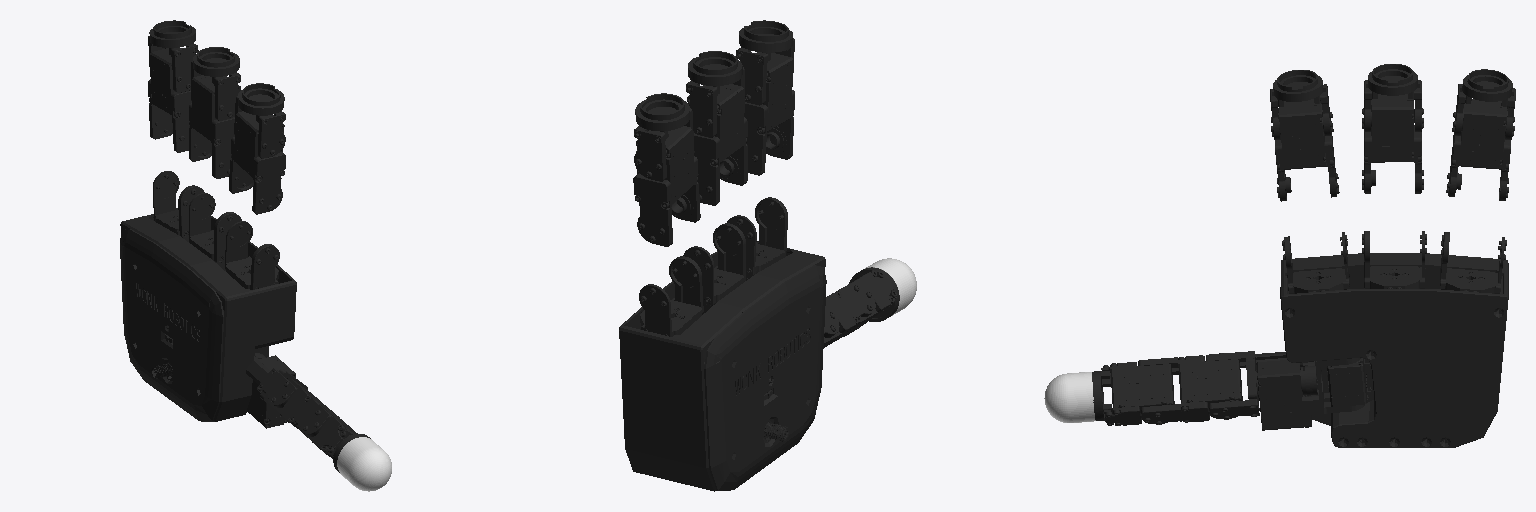
The robot description file, URDF, robot "allegro_hand_left":
<?xml version="1.0" ?>
<!-- =================================================================================== -->
<!-- |    This document was autogenerated by xacro from allegro_hand_description_right.xacro | -->
<!-- |    EDITING THIS FILE BY HAND IS NOT RECOMMENDED                                 | -->
<!-- =================================================================================== -->
<robot name="allegro_hand_left" xmlns:xacro="http://www.ros.org/wiki/xacro">
  <!-- ======================== BASE PARAMS ========================= -->
  <!-- ======================== FINGER PARAMS ======================== -->
  <!-- full height from joint to tip. when used,
    the radius of the finger tip sphere will be subtracted
    and one fixed link will be added for the tip. -->
  <!-- ========================= THUMB PARAMS ========================= -->
  <!-- ========================= LIMITS ========================= -->
  <!-- ============================================================================= -->
  <!-- PALM -->
 <link name="world"/>
  <joint name="global" type="fixed">
        <parent link="world"/>
        <child link="palm_link"/>
        <origin xyz="0 0 0.0" rpy="0 0 0"/>
  </joint>
  <link name="palm_link">
    <visual>
      <geometry>
        <mesh filename="package://allegro_hand_controllers/meshes/left_hand_G.stl" scale="0.001 0.001 0.001"/>
      </geometry>
      <origin rpy="0 0 1.57" xyz="0.02 0.0 -0.1"/>
      <material name="black">
        <color rgba="0.2 0.2 0.2 1"/>
      </material>
    </visual>
    <collision>
      <geometry>
        <mesh filename="package://allegro_hand_controllers/meshes/left_hand_G.stl" scale="0.001 0.001 0.001"/>
      </geometry>
 <origin rpy="0 0 1.57" xyz="0.02 0.0 -0.1"/>
    </collision>
    <inertial>
      <origin rpy="0 0 0" xyz="0 0 0.0475"/>
      <mass value="0.4154"/>
      <inertia ixx="1e-4" ixy="0.0" ixz="0.0" iyy="1e-4" iyz="0.0" izz="1e-4"/>
    </inertial>
  </link>
  <!-- ============================================================================= -->
  <!-- FINGERS -->
  <!-- RIGHT HAND due to which finger is number 0 -->
  <!-- for LEFT HAND switch the sign of the **offset_origin_y** and **finger_angle_r** parameters-->
  <!-- [LINK 0, 4, 8] -->
  <link name="link_0_0">
        <visual>
      <geometry>
        <mesh filename="package://allegro_hand_controllers/meshes/new_l1.stl" scale="0.001 0.001 0.001"/>
      </geometry>
      <origin rpy="0 0 -1.57" xyz="-0.0625 -0.022 0.168"/>
      <material name="black">
        <color rgba="0.2 0.2 0.2 1"/>
      </material>
    </visual>
    <collision>
      <geometry>
        <mesh filename="package://allegro_hand_controllers/meshes/new_l1.stl" scale="0.001 0.001 0.001"/>
      </geometry>
      <origin rpy="0 0 -1.57" xyz="-0.0625 -0.022 0.168"/>
    </collision>
    <inertial>
      <mass value="0.0176"/>
      <origin rpy="0 0 0" xyz="0 0 0"/>
      <inertia ixx="1.2854008e-05" ixy="2.04e-08" ixz="1.89e-06" iyy="1.225e-05" iyz="1.51e-07" izz="2.999e-06"/>
    </inertial>
  </link>
  <joint name="joint_0_0" type="revolute">
    <axis xyz="0 0 1"/>
    <limit effort="15" lower="-0.26" upper="0.29" velocity="7"/>
    <parent link="palm_link"/>
    <child link="link_0_0"/>
    <origin rpy="0.08726646255 0 0" xyz="0.0005 -0.0425 -0.005"/>
    <dynamics damping="3" friction="10"/>
  </joint>
  <!-- [LINK 1, 5, 9] -->
  <link name="link_1_0">
    <visual>
      <geometry>
        <mesh filename="package://allegro_hand_controllers/meshes/new_l2.stl" scale="0.001 0.001 0.001"/>
      </geometry>
      <origin rpy="0 0 -1.57" xyz="-0.0625 -0.022 0.1495"/>
      <material name="black"/>
    </visual>
    <collision>
      <geometry>
        <mesh filename="package://allegro_hand_controllers/meshes/new_l2.stl" scale="0.001 0.001 0.001"/>
      </geometry>
      <origin rpy="0 0 -1.57" xyz="-0.0625 -0.022 0.1495"/>
    </collision>
    <inertial>
      <mass value="0.086"/>
      <origin rpy="0 0 0" xyz="0 0 0"/>
      <inertia ixx="1.86e-05" ixy="1.68e-06" ixz="-6.16e-06" iyy="4.87e-05" iyz="3.51e-07" izz="5.57e-05"/>
    </inertial>
  </link>
  <joint name="joint_1_0" type="revolute">
    <limit effort="15" lower="-0.21" upper="1.79" velocity="7"/>
    <axis xyz="0 1 0"/>
    <parent link="link_0_0"/>
    <child link="link_1_0"/>
    <origin xyz="0 0 0.017"/>
    <dynamics damping="3" friction="5"/>
  </joint>
  <!-- [LINK 2, 6, 10]-->
  <link name="link_2_0">
    <visual>
      <geometry>
        <mesh filename="package://allegro_hand_controllers/meshes/new_l3.stl" scale="0.001 0.001 0.001"/>
      </geometry>
      <origin rpy="0 0 -1.57" xyz="-0.0625 -0.022 0.1065"/>
      <material name="black"/>
    </visual>
    <collision>
      <geometry>
        <mesh filename="package://allegro_hand_controllers/meshes/new_l3.stl" scale="0.001 0.001 0.001"/>
      </geometry>
      <origin rpy="0 0 -1.57" xyz="-0.0625 -0.022 0.1065"/>
    </collision>
    <inertial>
      <mass value="0.0367"/>
      <origin rpy="0 0 0" xyz="0 0 0"/>
      <inertia ixx="3.81e-06" ixy="5.72e-09" ixz="-9.97e-07" iyy="1.455e-05" iyz="2.63e-08" izz="1.29e-05"/>
    </inertial>
  </link>
  <joint name="joint_2_0" type="revolute">
    <axis xyz="0 1 0"/>
    <limit effort="15" lower="-0.12" upper="1.86" velocity="7"/>
    <parent link="link_1_0"/>
    <child link="link_2_0"/>
    <origin xyz="0 0 0.0431"/>
    <dynamics damping="8" friction="10"/>
  </joint>
  <!-- [LINK 3, 7, 11] -->
  <link name="link_3_0">
    <visual>
      <geometry>
        <mesh filename="package://allegro_hand_controllers/meshes/new_l4.stl" scale="0.001 0.001 0.001"/>
      </geometry>
      <origin rpy="0 0 -1.57" xyz="-0.0625 -0.022 0.0685"/>
      <material name="black"/>
    </visual>
    <collision>
      <geometry>
        <mesh filename="package://allegro_hand_controllers/meshes/new_l4.stl" scale="0.001 0.001 0.001"/>
      </geometry>
      <origin rpy="0 0 -1.57" xyz="-0.0625 -0.022 0.0685"/>
    </collision>
    <inertial>
      <mass value="0.004"/>
      <origin rpy="0 0 0" xyz="0 0 0"/>
      <inertia ixx="1.17e-06" ixy="5.09e-09" ixz="0.0" iyy="2.4e-06" iyz="0.0" izz="1.67e-06"/>
    </inertial>
  </link>
  <joint name="joint_3_0" type="revolute">
    <axis xyz="0 1 0"/>
    <limit effort="15" lower="-0.21" upper="1.85" velocity="7"/>
    <parent link="link_2_0"/>
    <child link="link_3_0"/>
    <origin xyz="0 0 0.038"/>
    <dynamics damping="10" friction="12"/>
  </joint>
  <!-- [FINGER TIP] -->
  <link name="link_3_0_tip">
    <visual>
      <geometry>
        <mesh filename="package://allegro_hand_controllers/meshes/finger_tip.stl" scale="0.001 0.001 0.001"/>
      </geometry>
       <origin rpy="0 0 -1.57" xyz="-0.05482 -0.01493 -0.01795"/>
      <material name="white">
        <color rgba=".9 .9 .9 1"/>
      </material>
    </visual>
    <collision>
      <geometry>
        <mesh filename="package://allegro_hand_controllers/meshes/finger_tip.stl" scale="0.001 0.001 0.001"/>
      </geometry>
       <origin rpy="0 0 -1.57" xyz="-0.05482 -0.01493 -0.01795"/>
    </collision>
    <inertial>
      <mass value="0.0017"/>
      <origin rpy="0 0 0" xyz="0 0 0"/>
      <inertia ixx="9.68e-07" ixy="0" ixz="0" iyy="9.68e-07" iyz="0" izz="9.68e-07"/>
    </inertial>
  </link>
  <joint name="joint_3_0_tip" type="fixed">
    <parent link="link_3_0"/>
    <child link="link_3_0_tip"/>
    <origin rpy="0 0 0" xyz="0 0 0.04"/>
  </joint>
  <!-- [LINK 0, 4, 8] -->
  <link name="link_4_0">
     <visual>
      <geometry>
        <mesh filename="package://allegro_hand_controllers/meshes/new_l1.stl" scale="0.001 0.001 0.001"/>
      </geometry>
      <origin rpy="0 0 -1.57" xyz="-0.0625 -0.022 0.167"/>
      <material name="black">
        <color rgba="0.2 0.2 0.2 1"/>
      </material>
    </visual>
    <collision>
      <geometry>
        <mesh filename="package://allegro_hand_controllers/meshes/new_l1.stl" scale="0.001 0.001 0.001"/>
      </geometry>
      <origin rpy="0 0 -1.57" xyz="-0.0625 -0.022 0.167"/>
    </collision>
    <inertial>
      <mass value="0.0176"/>
      <origin rpy="0 0 0" xyz="0 0 0"/>
      <inertia ixx="1.2854008e-05" ixy="2.04e-08" ixz="1.89e-06" iyy="1.225e-05" iyz="1.51e-07" izz="2.999e-06"/>
    </inertial>
  </link>
  <joint name="joint_4_0" type="revolute">
    <axis xyz="0 0 1"/>
    <limit effort="15" lower="-0.26" upper="0.26" velocity="7"/>
    <parent link="palm_link"/>
    <child link="link_4_0"/>
    <origin rpy="0.0 0 0" xyz="0 0 -0.002"/>
    <dynamics damping="3" friction="10"/>
  </joint>
  <!-- [LINK 1, 5, 9] -->
  <link name="link_5_0">
    <visual>
      <geometry>
        <mesh filename="package://allegro_hand_controllers/meshes/new_l2.stl" scale="0.001 0.001 0.001"/>
      </geometry>
      <origin rpy="0 0 -1.57" xyz="-0.0625 -0.022 0.1495"/>
      <material name="black"/>
    </visual>
    <collision>
      <geometry>
        <mesh filename="package://allegro_hand_controllers/meshes/new_l2.stl" scale="0.001 0.001 0.001"/>
      </geometry>
      <origin rpy="0 0 -1.57" xyz="-0.0625 -0.022 0.1495"/>
    </collision>
    <inertial>
      <mass value="0.086"/>
      <origin rpy="0 0 0" xyz="0 0 0"/>
      <inertia ixx="1.86e-05" ixy="1.68e-06" ixz="-6.16e-06" iyy="4.87e-05" iyz="3.51e-07" izz="5.57e-05"/>
    </inertial>
  </link>
  <joint name="joint_5_0" type="revolute">
    <limit effort="15" lower="-0.21" upper="1.79" velocity="7"/>
    <axis xyz="0 1 0"/>
    <parent link="link_4_0"/>
    <child link="link_5_0"/>
    <origin xyz="0 0 0.017"/>
    <dynamics damping="3" friction="5"/>
  </joint>
  <!-- [LINK 2, 6, 10]-->
  <link name="link_6_0">
   <visual>
      <geometry>
        <mesh filename="package://allegro_hand_controllers/meshes/new_l3.stl" scale="0.001 0.001 0.001"/>
      </geometry>
      <origin rpy="0 0 -1.57" xyz="-0.0625 -0.022 0.1065"/>
      <material name="black"/>
    </visual>
    <collision>
      <geometry>
        <mesh filename="package://allegro_hand_controllers/meshes/new_l3.stl" scale="0.001 0.001 0.001"/>
      </geometry>
      <origin rpy="0 0 -1.57" xyz="-0.0625 -0.022 0.1065"/>
    </collision>
    <inertial>
      <mass value="0.0367"/>
      <origin rpy="0 0 0" xyz="0 0 0"/>
      <inertia ixx="3.81e-06" ixy="5.72e-09" ixz="-9.97e-07" iyy="1.455e-05" iyz="2.63e-08" izz="1.29e-05"/>
    </inertial>
  </link>
  <joint name="joint_6_0" type="revolute">
    <axis xyz="0 1 0"/>
    <limit effort="15" lower="-0.12" upper="1.86" velocity="7"/>
    <parent link="link_5_0"/>
    <child link="link_6_0"/>
    <origin xyz="0 0 0.0431"/>
    <dynamics damping="8" friction="10"/>
  </joint>
  <!-- [LINK 3, 7, 11] -->
  <link name="link_7_0">
    <visual>
      <geometry>
        <mesh filename="package://allegro_hand_controllers/meshes/new_l4.stl" scale="0.001 0.001 0.001"/>
      </geometry>
      <origin rpy="0 0 -1.57" xyz="-0.0625 -0.022 0.0685"/>
      <material name="black"/>
    </visual>
    <collision>
      <geometry>
        <mesh filename="package://allegro_hand_controllers/meshes/new_l4.stl" scale="0.001 0.001 0.001"/>
      </geometry>
      <origin rpy="0 0 -1.57" xyz="-0.0625 -0.022 0.0685"/>
    </collision>
    <inertial>
      <mass value="0.004"/>
      <origin rpy="0 0 0" xyz="0 0 0"/>
      <inertia ixx="1.17e-06" ixy="5.09e-09" ixz="0.0" iyy="2.4e-06" iyz="0.0" izz="1.67e-06"/>
    </inertial>
  </link>
  <joint name="joint_7_0" type="revolute">
    <axis xyz="0 1 0"/>
    <limit effort="15" lower="-0.21" upper="1.85" velocity="7"/>
    <parent link="link_6_0"/>
    <child link="link_7_0"/>
    <origin xyz="0 0 0.038"/>
    <dynamics damping="10" friction="12"/>
  </joint>
  <!-- [FINGER TIP] -->
  <link name="link_7_0_tip">
    <visual>
      <geometry>
        <mesh filename="package://allegro_hand_controllers/meshes/finger_tip.stl" scale="0.001 0.001 0.001"/>
      </geometry>
       <origin rpy="0 0 -1.57" xyz="-0.05482 -0.01493 -0.01795"/>
      <material name="white">
        <color rgba=".9 .9 .9 1"/>
      </material>
    </visual>
    <collision>
      <geometry>
        <mesh filename="package://allegro_hand_controllers/meshes/finger_tip.stl" scale="0.001 0.001 0.001"/>
      </geometry>
        <origin rpy="0 0 -1.57" xyz="-0.05482 -0.01493 -0.01795"/>
    </collision>
    <inertial>
      <mass value="0.0017"/>
      <origin rpy="0 0 0" xyz="0 0 0"/>
      <inertia ixx="9.68e-07" ixy="0" ixz="0" iyy="9.68e-07" iyz="0" izz="9.68e-07"/>
    </inertial>
  </link>
  <joint name="joint_7_0_tip" type="fixed">
    <parent link="link_7_0"/>
    <child link="link_7_0_tip"/>
    <origin rpy="0 0 0" xyz="0 0 0.04"/>
  </joint>
  <!-- [LINK 0, 4, 8] -->
  <link name="link_8_0">
    <visual>
      <geometry>
        <mesh filename="package://allegro_hand_controllers/meshes/new_l1.stl" scale="0.001 0.001 0.001"/>
      </geometry>
      <origin rpy="0 0 -1.57" xyz="-0.0625 -0.022 0.168"/>
      <material name="black">
        <color rgba="0.2 0.2 0.2 1"/>
      </material>
    </visual>
    <collision>
      <geometry>
        <mesh filename="package://allegro_hand_controllers/meshes/new_l1.stl" scale="0.001 0.001 0.001"/>
      </geometry>
      <origin rpy="0 0 -1.57" xyz="-0.0625 -0.022 0.168"/>
    </collision>
    <inertial>
      <mass value="0.0176"/>
      <origin rpy="0 0 0" xyz="0 0 0"/>
      <inertia ixx="1.2854008e-05" ixy="2.04e-08" ixz="1.89e-06" iyy="1.225e-05" iyz="1.51e-07" izz="2.999e-06"/>
    </inertial>
  </link>
  <joint name="joint_8_0" type="revolute">
    <axis xyz="0 0 1"/>
    <limit effort="15" lower="-0.3" upper="0.3" velocity="7"/>
    <parent link="palm_link"/>
    <child link="link_8_0"/>
    <origin rpy="-0.08726646255 0 0" xyz="0.0005 0.0425 -0.005"/>
    <dynamics damping="3" friction="10"/>
  </joint>
  <!-- [LINK 1, 5, 9] -->
  <link name="link_9_0">
    <visual>
      <geometry>
        <mesh filename="package://allegro_hand_controllers/meshes/new_l2.stl" scale="0.001 0.001 0.001"/>
      </geometry>
      <origin rpy="0 0 -1.57" xyz="-0.0625 -0.022 0.1495"/>
      <material name="black"/>
    </visual>
    <collision>
      <geometry>
        <mesh filename="package://allegro_hand_controllers/meshes/new_l2.stl" scale="0.001 0.001 0.001"/>
      </geometry>
      <origin rpy="0 0 -1.57" xyz="-0.0625 -0.022 0.1495"/>
    </collision>
    <inertial>
      <mass value="0.086"/>
      <origin rpy="0 0 0" xyz="0 0 0"/>
      <inertia ixx="1.86e-05" ixy="1.68e-06" ixz="-6.16e-06" iyy="4.87e-05" iyz="3.51e-07" izz="5.57e-05"/>
    </inertial>
  </link>
  <joint name="joint_9_0" type="revolute">
    <limit effort="15" lower="-0.01" upper="1.6" velocity="7"/>
    <axis xyz="0 1 0"/>
    <parent link="link_8_0"/>
    <child link="link_9_0"/>
    <origin xyz="0 -0.000 0.017"/>
    <dynamics damping="3" friction="5"/>
  </joint>
  <!-- [LINK 2, 6, 10]-->
  <link name="link_10_0">
    <visual>
      <geometry>
        <mesh filename="package://allegro_hand_controllers/meshes/new_l3.stl" scale="0.001 0.001 0.001"/>
      </geometry>
      <origin rpy="0 0 -1.57" xyz="-0.0625 -0.022 0.1065"/>
      <material name="black"/>
    </visual>
    <collision>
      <geometry>
        <mesh filename="package://allegro_hand_controllers/meshes/new_l3.stl" scale="0.001 0.001 0.001"/>
      </geometry>
      <origin rpy="0 0 -1.57" xyz="-0.0625 -0.022 0.1065"/>
    </collision>
    <inertial>
      <mass value="0.0367"/>
      <origin rpy="0 0 0" xyz="0 0 0"/>
      <inertia ixx="3.81e-06" ixy="5.72e-09" ixz="-9.97e-07" iyy="1.455e-05" iyz="2.63e-08" izz="1.29e-05"/>
    </inertial>
  </link>
  <joint name="joint_10_0" type="revolute">
    <axis xyz="0 1 0"/>
    <limit effort="15" lower="-0.07" upper="1.86" velocity="7"/>
    <parent link="link_9_0"/>
    <child link="link_10_0"/>
    <origin xyz="0 -0.000 0.0431"/>
    <dynamics damping="8" friction="10"/>
  </joint>
  <!-- [LINK 3, 7, 11] -->
  <link name="link_11_0">
    <visual>
      <geometry>
        <mesh filename="package://allegro_hand_controllers/meshes/new_l4.stl" scale="0.001 0.001 0.001"/>
      </geometry>
      <origin rpy="0 0 -1.57" xyz="-0.0625 -0.022 0.0685"/>
      <material name="black"/>
    </visual>
    <collision>
      <geometry>
        <mesh filename="package://allegro_hand_controllers/meshes/new_l4.stl" scale="0.001 0.001 0.001"/>
      </geometry>
      <origin rpy="0 0 -1.57" xyz="-0.0625 -0.022 0.0685"/>
    </collision>
    <inertial>
      <mass value="0.004"/>
      <origin rpy="0 0 0" xyz="0 0 0"/>
      <inertia ixx="1.17e-06" ixy="5.09e-09" ixz="0.0" iyy="2.4e-06" iyz="0.0" izz="1.67e-06"/>
    </inertial>
  </link>
  <joint name="joint_11_0" type="revolute">
    <axis xyz="0 1 0"/>
    <limit effort="15" lower="-0.02" upper="2.01" velocity="7"/>
    <parent link="link_10_0"/>
    <child link="link_11_0"/>
    <origin xyz="0 0 0.038"/>
    <dynamics damping="10" friction="12"/>
  </joint>
  <!-- [FINGER TIP] -->
  <link name="link_11_0_tip">
    <visual>
      <geometry>
        <mesh filename="package://allegro_hand_controllers/meshes/finger_tip.stl" scale="0.001 0.001 0.001"/>
      </geometry>
       <origin rpy="0 0 -1.57" xyz="-0.05482 -0.01493 -0.01795"/>
      <material name="white">
        <color rgba=".9 .9 .9 1"/>
      </material>
    </visual>
    <collision>
      <geometry>
        <mesh filename="package://allegro_hand_controllers/meshes/finger_tip.stl" scale="0.001 0.001 0.001"/>
      </geometry>
       <origin rpy="0 0 -1.57" xyz="-0.05482 -0.01493 -0.01795"/>
    </collision>
    <inertial>
      <mass value="0.0017"/>
      <origin rpy="0 0 0" xyz="0 0 0"/>
      <inertia ixx="9.68e-07" ixy="0" ixz="0" iyy="9.68e-07" iyz="0" izz="9.68e-07"/>
    </inertial>
  </link>
  <joint name="joint_11_0_tip" type="fixed">
    <parent link="link_11_0"/>
    <child link="link_11_0_tip"/>
    <origin rpy="0 0 0" xyz="0 0 0.04"/>
  </joint>
  <!-- THUMB -->
  <!-- [LINK 12] -->
  <link name="link_12_0">
    <visual>
      <geometry>
        <mesh filename="package://allegro_hand_controllers/meshes/t1_set.stl" scale="0.001 0.001 0.001"/>
      </geometry>
      <origin rpy="3.926991 3.14 3.14" xyz="0.021 -0.1145 0.0725"/>
      <material name="black">
        <color rgba=".2 .2 .2 1"/>
      </material>
    </visual>
    <collision>
      <geometry>
        <mesh filename="package://allegro_hand_controllers/meshes/t1_set.stl" scale="0.001 0.001 0.001"/>
      </geometry>
      <origin rpy="3.926991 3.14 3.14" xyz="0.021 -0.1145 0.0725"/>
    </collision>
    <inertial>
      <mass value="0.0446"/>
      <origin rpy="0 0 0" xyz="0 0 0"/>
      <inertia ixx="5.44e-5" ixy="4.0e-07" ixz="-1.12e-07" iyy="9.19e-06" iyz="1.07e-05" izz="4.8e-05"/>
    </inertial>
  </link>
  <joint name="joint_12_0" type="revolute">
    <axis xyz="-1 0 0"/>
    <limit effort="15" lower="-1.78" upper="0.00" velocity="7"/>
    <parent link="palm_link"/>
    <child link="link_12_0"/>
    <origin rpy="3.14 -1.483529863 -1.5707963259" xyz="0.002 -0.027 -0.06342"/>
    <dynamics damping="3" friction="10"/>
  </joint>
  <!-- [LINK 13] -->
  <link name="link_13_0">
    <visual>
      <geometry>
        <mesh filename="package://allegro_hand_controllers/meshes/t2_set.stl" scale="0.001 0.001 0.001"/>
      </geometry>
      <origin rpy="3.14 3.14 1.57" xyz="-0.138 -0.0605 0.2143"/>
      <material name="black">
        <color rgba=".2 .2 .2 1"/>
      </material>
    </visual>
    <collision>
      <geometry>
        <mesh filename="package://allegro_hand_controllers/meshes/t2_set.stl" scale="0.001 0.001 0.001"/>
      </geometry>
      <origin rpy="3.14 3.14 1.57" xyz="-0.138 -0.0605 0.2143"/>
    </collision>
    <inertial>
      <mass value="0.0173"/>
      <origin rpy="0 0 0" xyz="0 0 0"/>
      <inertia ixx="1.52e-05" ixy="-2.09e-08" ixz="-9.8e-09" iyy="1.3323e-05" iyz="-2.04e-06" izz="2.85e-06"/>
    </inertial>
  </link>
  <joint name="joint_13_0" type="revolute">
    <axis xyz="0 0 1"/>
       <limit effort="15" lower="1.57" upper="3.22" velocity="7"/>
    <parent link="link_12_0"/>
    <child link="link_13_0"/>
    <origin xyz="-0.001 0.00 0.06874"/>
    <dynamics damping="3" friction="5"/>
  </joint>
  <!-- [LINK 14] -->
  <link name="link_14_0">
    <visual>
      <geometry>
        <mesh filename="package://allegro_hand_controllers/meshes/t3_set.stl" scale="0.001 0.001 0.001"/>
      </geometry>
      <origin rpy="3.14 3.14 1.57" xyz="-0.1265 -0.061 0.166"/>
      <material name="black">
      </material>
    </visual>
    <collision>
      <geometry>
        <mesh filename="package://allegro_hand_controllers/meshes/t3_set.stl" scale="0.001 0.001 0.001"/>
      </geometry>
      <origin rpy="3.14 3.14 1.57" xyz="-0.1265 -0.061 0.166"/>
    </collision>
    <inertial>
      <mass value="0.03607"/>
      <origin rpy="0 0 0" xyz="0 0 0"/>
      <inertia ixx="3.7e-06" ixy="2.43e-07" ixz="6.48e-07" iyy="1.54e-05" iyz="-3.11e-08" izz="1.388e-05"/>
    </inertial>
  </link>
  <joint name="joint_14_0" type="revolute">
    <axis xyz="0 1 0"/>
    <!--<limit effort="15" lower="-0.54" upper="1.53" velocity="7"/>-->
           <limit effort="15" lower="-1.85" upper="0.05" velocity="7"/>
    <parent link="link_13_0"/>
    <child link="link_14_0"/>
    <origin xyz="0 0 0.00"/>
    <dynamics damping="3" friction="10"/>
  </joint>
  <!-- [LINK 15] -->
  <link name="link_15_0">
    <visual>
      <geometry>
         <mesh filename="package://allegro_hand_controllers/meshes/t4_set.stl" scale="0.001 0.001 0.001"/>
      </geometry>
      <origin rpy="3.14 3.14 1.57" xyz="-0.149 -0.061 0.096"/>
      <material name="black">
      </material>
    </visual>
    <collision>
      <geometry>
         <mesh filename="package://allegro_hand_controllers/meshes/t4_set.stl" scale="0.001 0.001 0.001"/>
      </geometry>
      <origin rpy="3.14 3.14 1.57" xyz="-0.149 -0.061 0.096"/>
    </collision>
    <inertial>
      <mass value="0.0334"/>
      <origin rpy="0 0 0" xyz="0 0 0"/>
      <inertia ixx="2.94e-06" ixy="1.244e-07" ixz="3.52e-07" iyy="1.13e-05" iyz="-3.11e-08" izz="1.06e-05"/>
    </inertial>
  </link>
  <joint name="joint_15_0" type="revolute">
    <axis xyz="0 1 0"/>
    <limit effort="15" lower="-1.80" upper="0.09" velocity="7"/>
    <parent link="link_14_0"/>
    <child link="link_15_0"/>
    <origin xyz="0 0 0.038"/>
    <dynamics damping="3" friction="12"/>
  </joint>
  <!-- [FINGER TIP] -->
  <link name="link_15_0_tip">
    <visual>
      <geometry>
        <mesh filename="package://allegro_hand_controllers/meshes/finger_tip_silicon.stl" scale="0.001 0.001 0.001"/>
      </geometry>
      <origin rpy="0 0 3.14" xyz="-0.014 0.0545 -0.0172"/>
      <material name="white">
        <color rgba=".9 .9 .9 1"/>
      </material>
    </visual>
    <collision>
      <geometry>
        <mesh filename="package://allegro_hand_controllers/meshes/finger_tip_silicon.stl" scale="0.001 0.001 0.001"/>
      </geometry>
      <origin rpy="0 0 3.14" xyz="-0.014 0.0545 -0.0172"/>
    </collision>
    <inertial>
      <mass value="0.0014"/>
      <origin rpy="0 0 0" xyz="0 0 0"/>
      <inertia ixx="9.68e-07" ixy="0" ixz="0" iyy="9.68e-07" iyz="0" izz="9.68e-07"/>
    </inertial>
  </link>
  <joint name="joint_15_0_tip" type="fixed">
    <parent link="link_15_0"/>
    <child link="link_15_0_tip"/>
    <origin rpy="0 0 0" xyz="0 0 0.05"/>
  </joint>
  <!-- ============================================================================= -->
  <!-- THUMB MACRO -->
  <!-- END THUMB MACRO -->
  <!-- THREE FINGER MACRO -->
  <!-- [[END]] THREE FINGER MACRO -->
</robot>

--- What the picture shows (computed from the rendered views, not written in the file) ---
3 views of the same robot in one strip: view 1: azimuth 30°, elevation 25°; view 2: azimuth 150°, elevation 25°; view 3: azimuth 270°, elevation 25° (orthographic).
Model allegro_hand_left with 22 links and 21 joints (16 revolute, 5 fixed), rooted at world, posed joints at zero except 1 at the middle of their limits (joint_13_0 = 2.4).
Visible links, largest first — view 1: palm_link, link_2_0, link_6_0, link_10_0, link_3_0, link_0_0, link_7_0, link_15_0_tip, link_11_0, link_4_0, link_8_0, link_14_0 (+3 smaller); view 2: palm_link, link_10_0, link_6_0, link_2_0, link_8_0, link_11_0, link_7_0, link_3_0, link_4_0, link_0_0, link_14_0, link_15_0 (+1 smaller); view 3: palm_link, link_14_0, link_12_0, link_15_0, link_10_0, link_2_0, link_6_0, link_13_0, link_15_0_tip, link_11_0, link_7_0, link_3_0 (+3 smaller).
Boxes of the visible links, x1,y1,x2,y2 form: palm_link: [120, 208, 296, 421]; link_2_0: [229, 111, 285, 214]; link_6_0: [189, 75, 240, 178]; link_10_0: [148, 48, 191, 152]; link_3_0: [234, 83, 285, 158]; link_0_0: [225, 221, 279, 289]; link_7_0: [191, 47, 240, 120]; link_15_0_tip: [337, 437, 391, 491]; link_11_0: [148, 20, 198, 92]; link_4_0: [189, 193, 241, 262]; link_8_0: [153, 171, 204, 237]; link_14_0: [268, 376, 357, 436]; palm_link: [619, 240, 826, 491]; link_10_0: [633, 126, 700, 246]; link_6_0: [687, 84, 747, 205]; link_2_0: [744, 53, 794, 175]; link_8_0: [639, 256, 703, 336]; link_11_0: [634, 93, 694, 181]; link_7_0: [686, 51, 744, 137]; link_3_0: [736, 20, 794, 105]; link_4_0: [683, 223, 745, 305]; link_0_0: [727, 197, 787, 275]; link_14_0: [824, 278, 875, 347]; link_15_0: [829, 267, 899, 344]; palm_link: [1280, 253, 1508, 447]; link_14_0: [1138, 355, 1242, 424]; link_12_0: [1256, 358, 1364, 430]; link_15_0: [1092, 362, 1174, 425]; link_10_0: [1446, 99, 1510, 200]; link_2_0: [1275, 99, 1339, 201]; link_6_0: [1362, 94, 1423, 193]; link_13_0: [1206, 351, 1317, 418]; link_15_0_tip: [1044, 372, 1095, 422]; link_11_0: [1452, 69, 1515, 139]; link_7_0: [1362, 64, 1423, 131]; link_3_0: [1270, 70, 1333, 139].
Bounding box of the posed robot: 0.0626 × 0.2636 × 0.2252 m (x, y, z).
15 mesh visuals loaded from 11 distinct referenced files (9 binary STL); not drawn: 6 (reference not matched to a file when rendering).